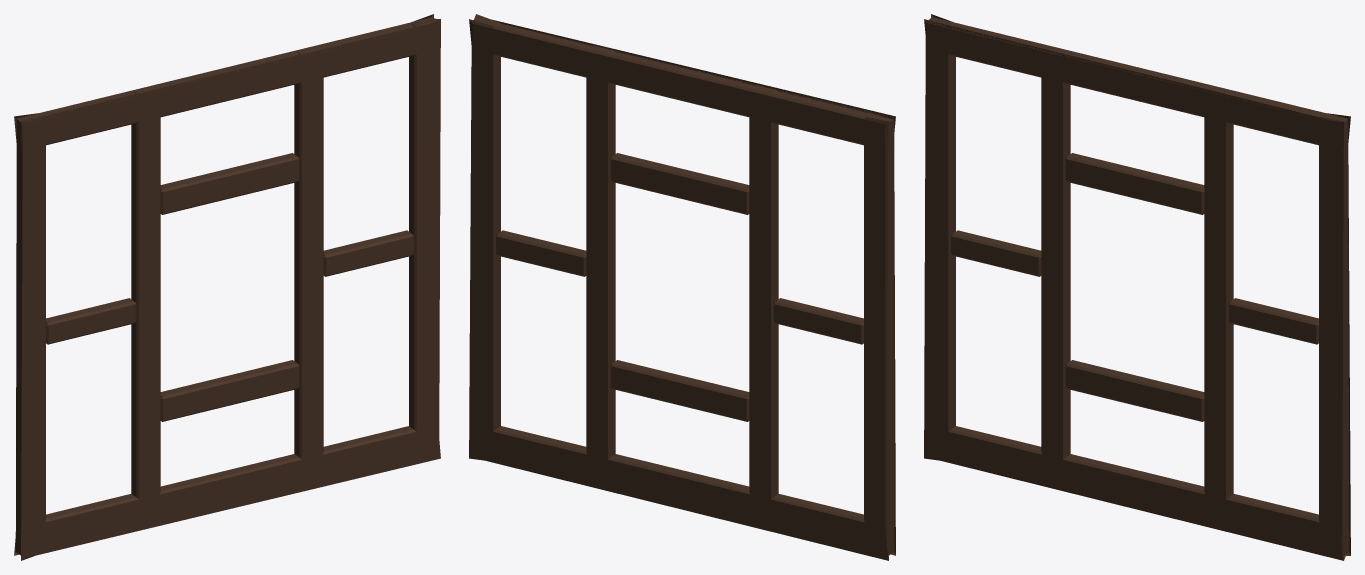
File: timber_window_w12.fbx
The picture shows the model from 3 angles, left to right: view 1: azimuth 30°, elevation 25°; view 2: azimuth 150°, elevation 25°; view 3: azimuth 330°, elevation 25°; orthographic projection.
Parts seen in each view (by area): view 1: timber_window_w12; view 2: timber_window_w12; view 3: timber_window_w12.
Part boxes in pixels (x1,y1,x2,y2): timber_window_w12: (14, 14, 440, 560); timber_window_w12: (469, 14, 895, 560); timber_window_w12: (924, 14, 1350, 560).
Bounding box in the file's own units: 1210 × 1210 × 35.
